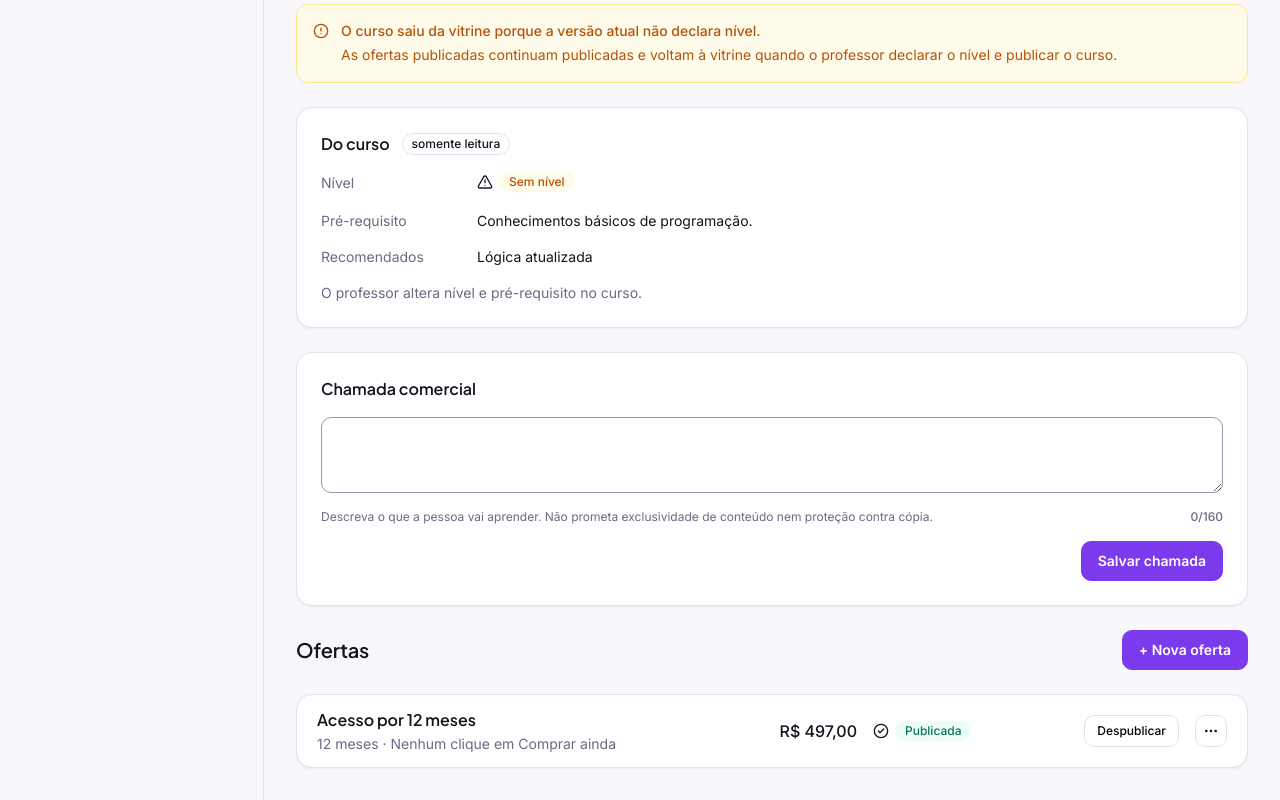
Scenario: catalog offer price and period changes › requires confirmation for lifetime access when price stays the same
The width and height of the screenshot is (1280, 800).
(page scrolled)
Click the button named "Ações de Acesso por 12 meses" at [1211, 731], box [1195,715,1227,747]
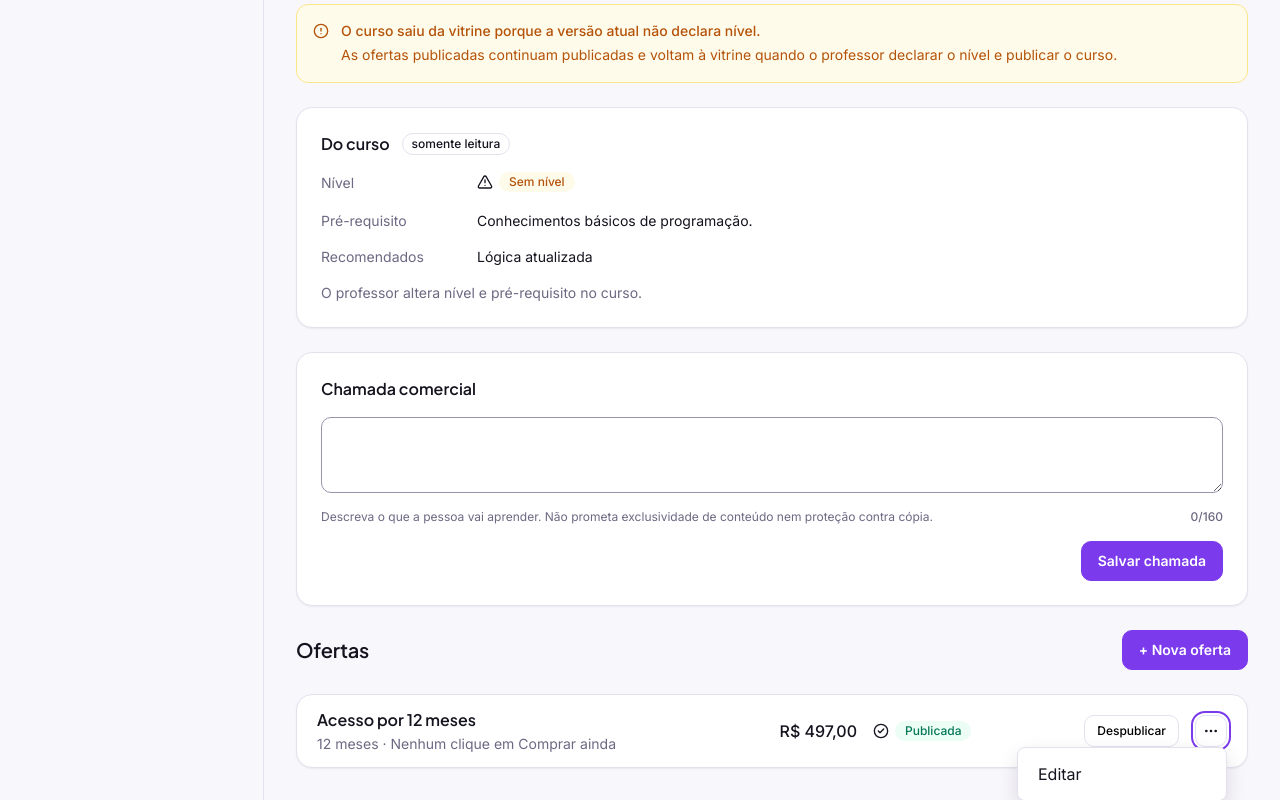
Click the button "Editar" at [1122, 774], box [1026,756,1218,792]
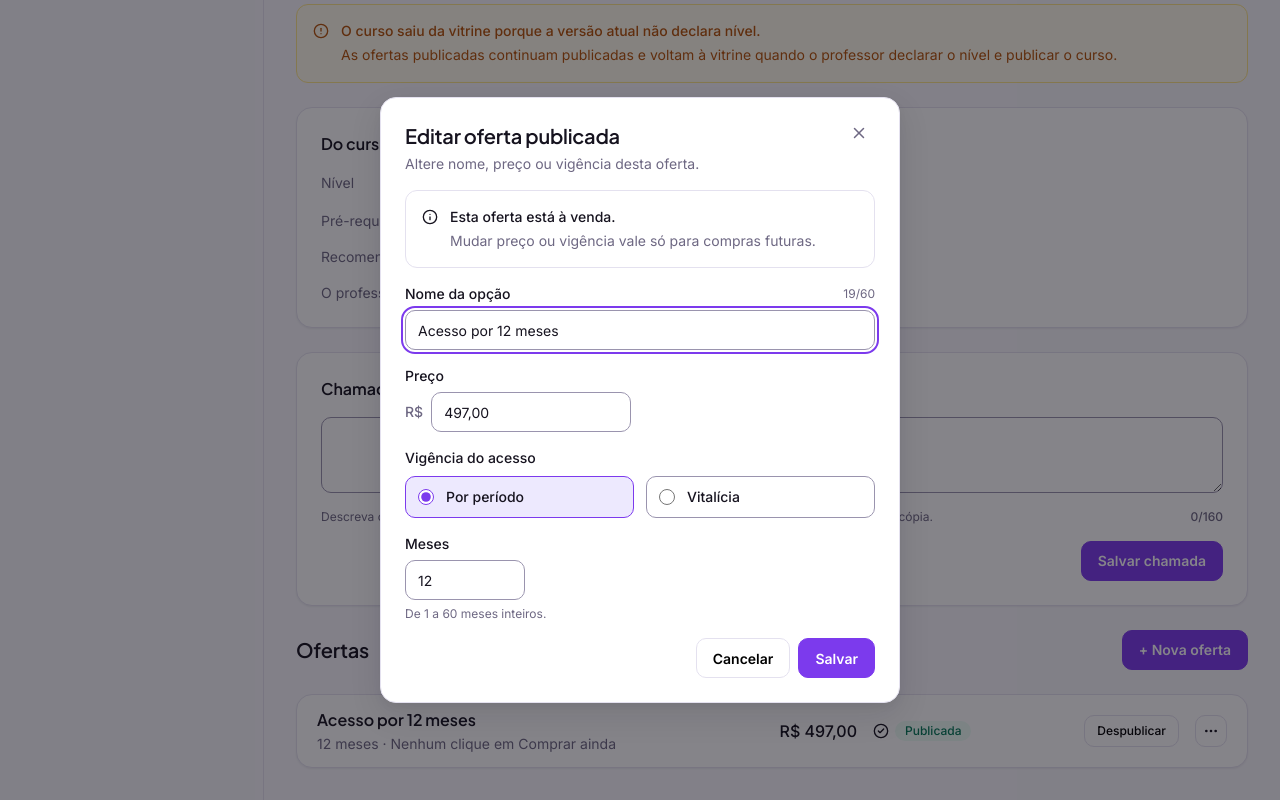
Click the radio button labelled "Vitalícia" at [667, 497], box [659,489,675,505]
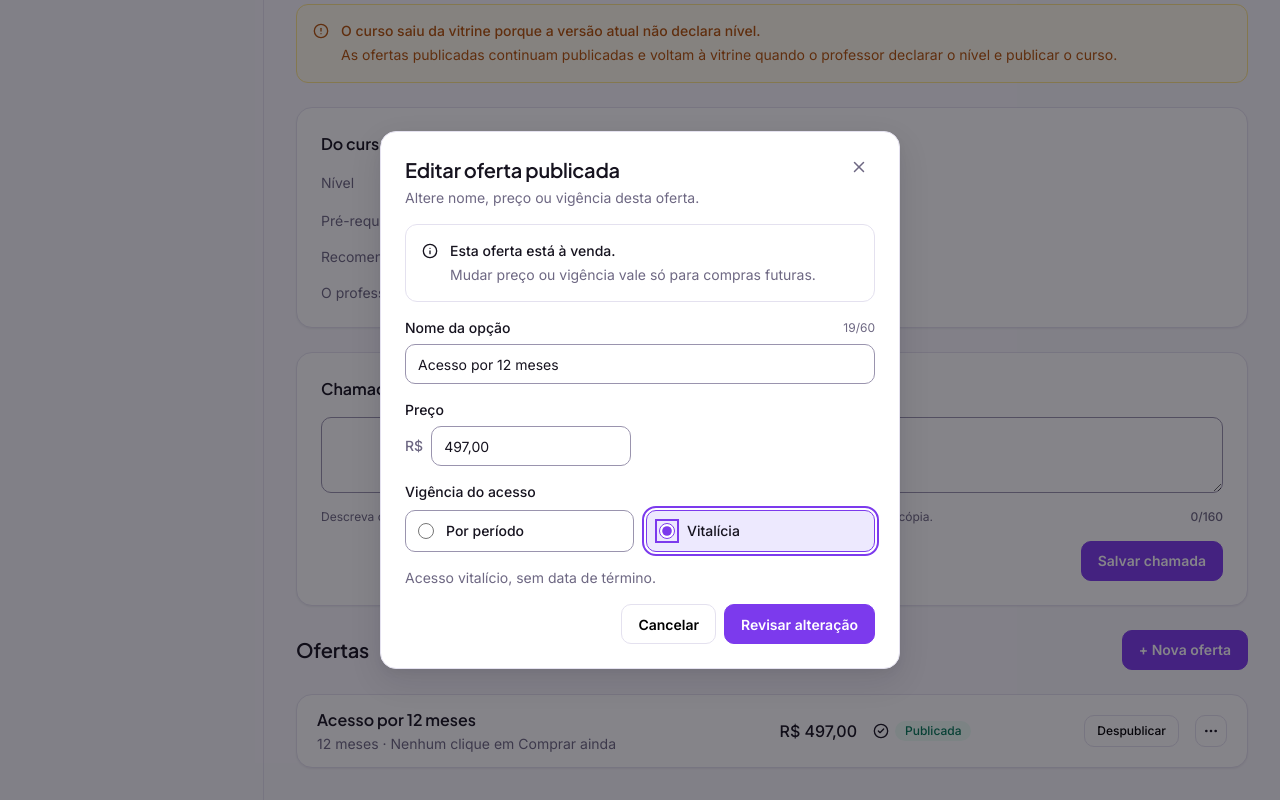
Click the button "Revisar alteração" at [800, 624], box [724,604,875,644]
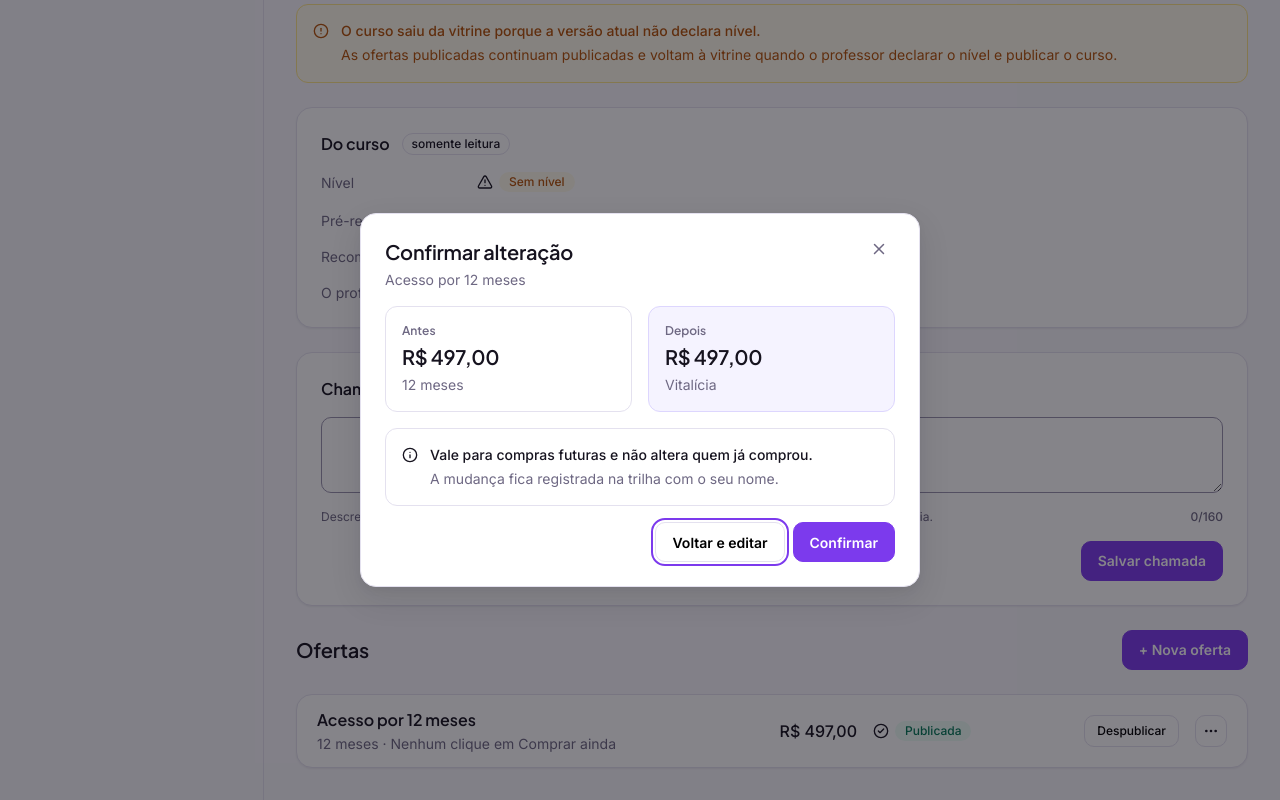
Now the text "Vitalícia" is shown, box [665,376,717,393]
Now the text "12 meses" is shown, box [402,376,464,393]
Now the text "R$ 497,00" is shown 2 times, box [402,344,499,369]; [665,344,762,369]
Click the button "Confirmar" at [844, 542], box [792,522,895,562]
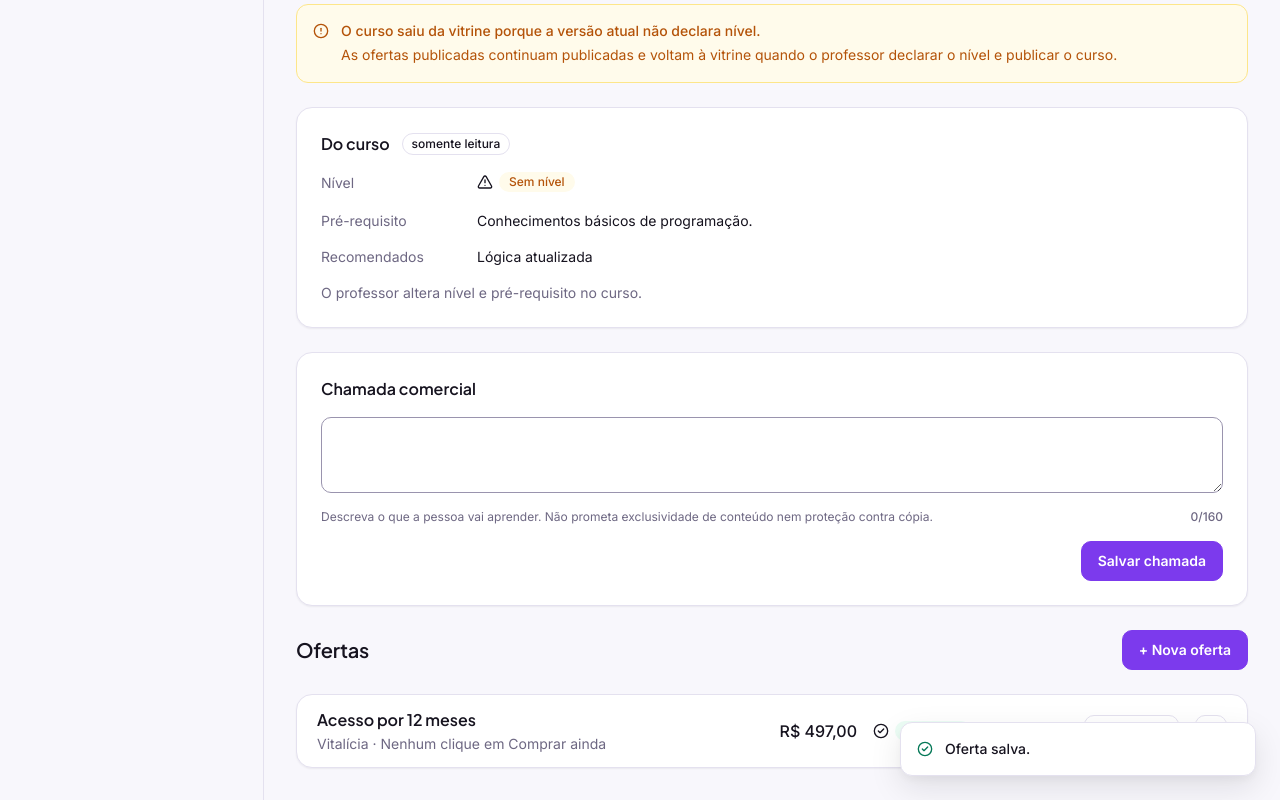
Now the text "Oferta salva." is shown, box [900,722,1256,776]
